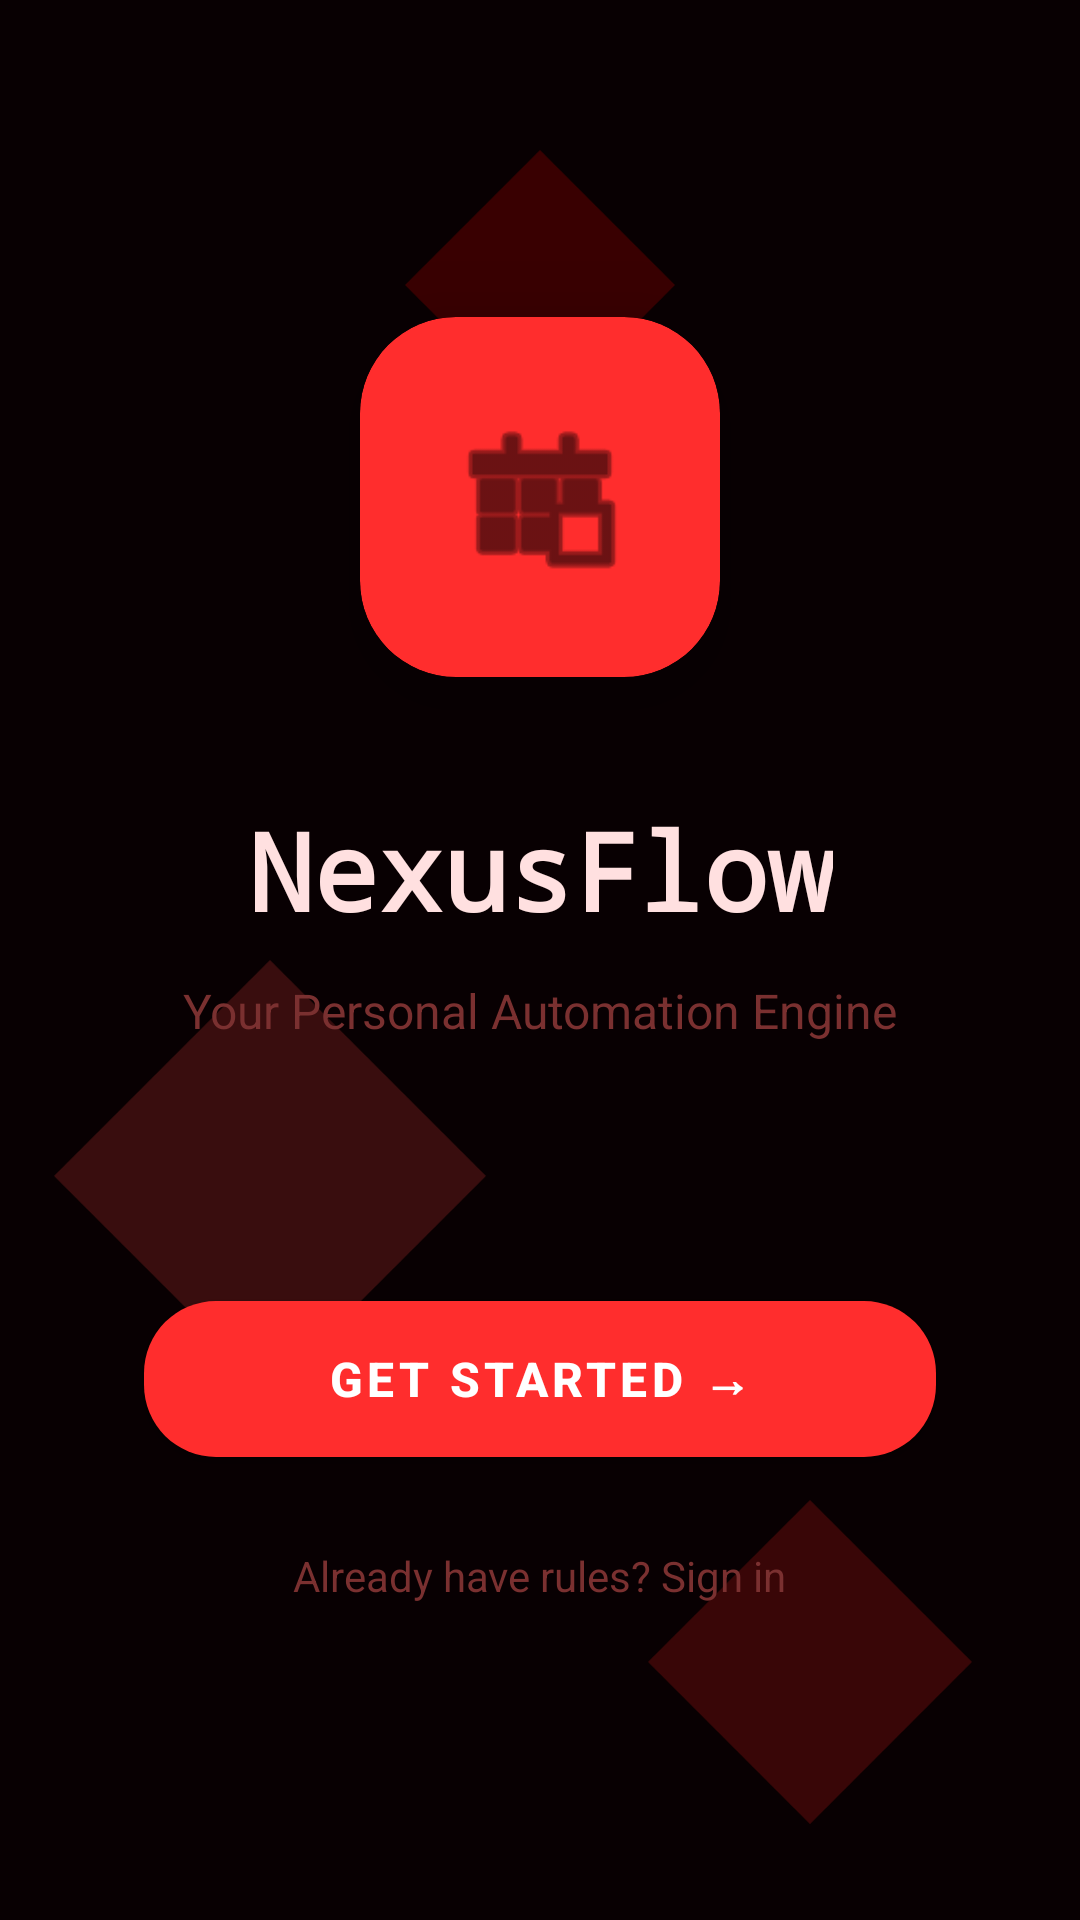

Named icons in this screenshot (1080×1920) and their bounding boxes, (x1, y1, x2, y2):
today: (468, 431, 616, 568)
